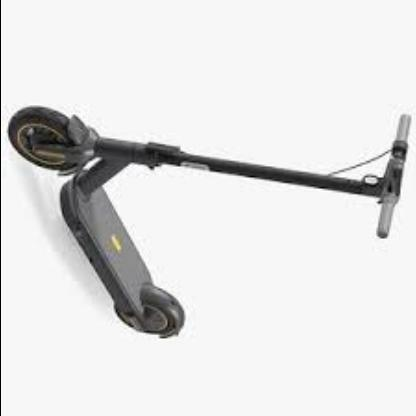bike: (8, 103, 413, 341)
